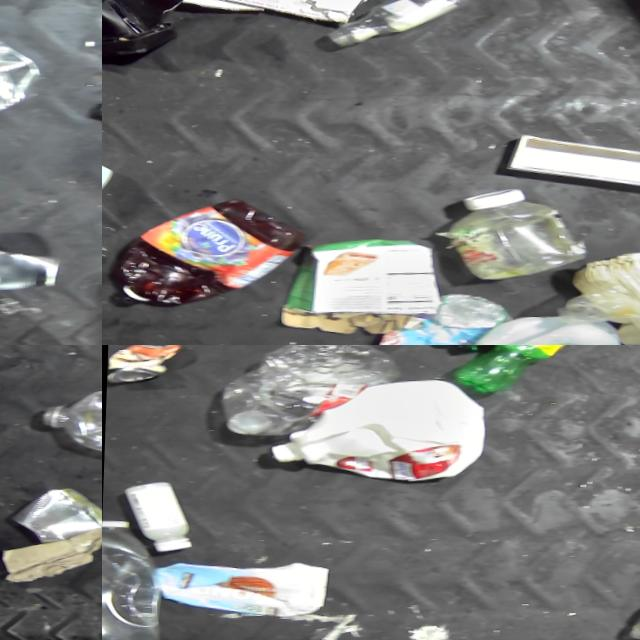can: (0, 247, 68, 296), (105, 345, 181, 388)
milk_jug: (270, 375, 493, 487)
plastic_bottle: (227, 345, 396, 443), (324, 0, 478, 53), (102, 511, 160, 640), (26, 380, 102, 475)
